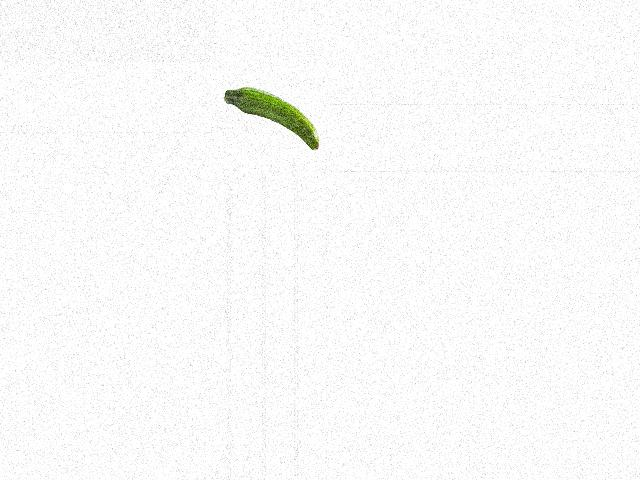cucumber: (223, 87, 318, 151)
